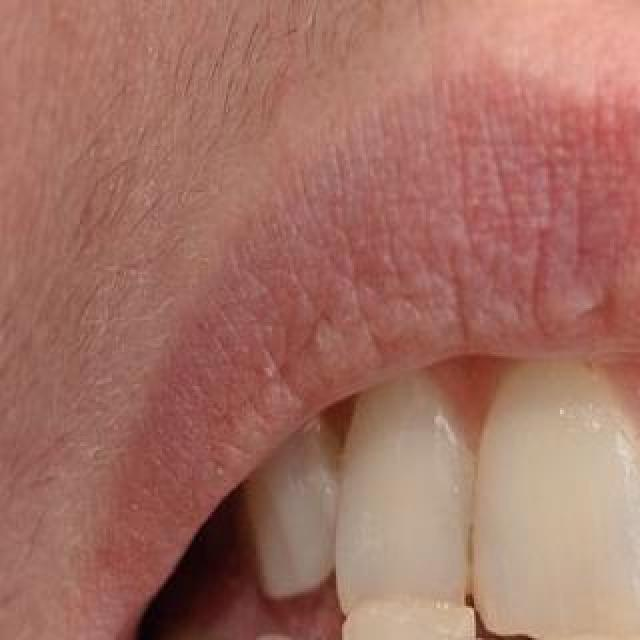maligned: (456, 368, 640, 640), (324, 383, 474, 639), (350, 578, 474, 640), (448, 618, 574, 640), (558, 612, 640, 640)
